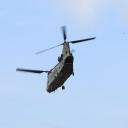helicopter: (17, 27, 98, 94)
